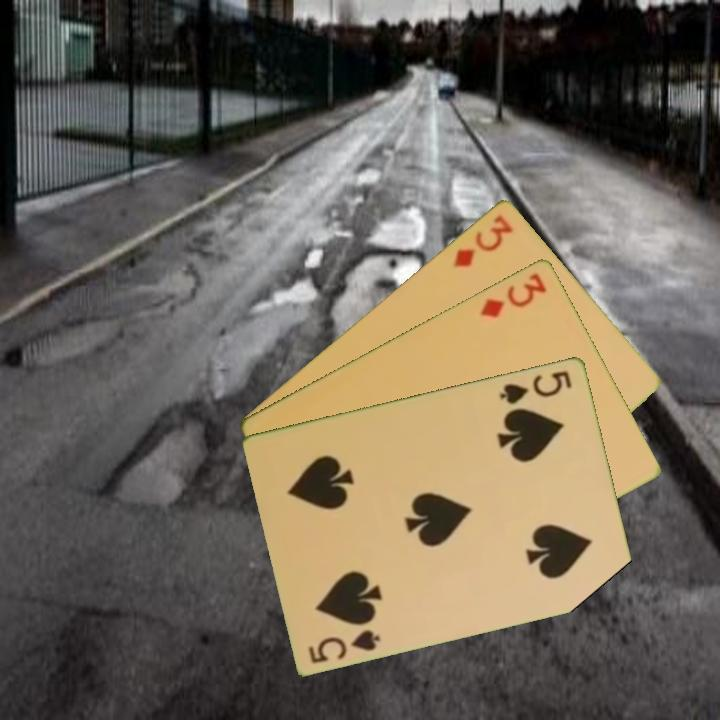3d: (450, 210, 517, 270), (476, 269, 550, 320)
5s: (305, 625, 383, 666), (496, 367, 575, 407)
